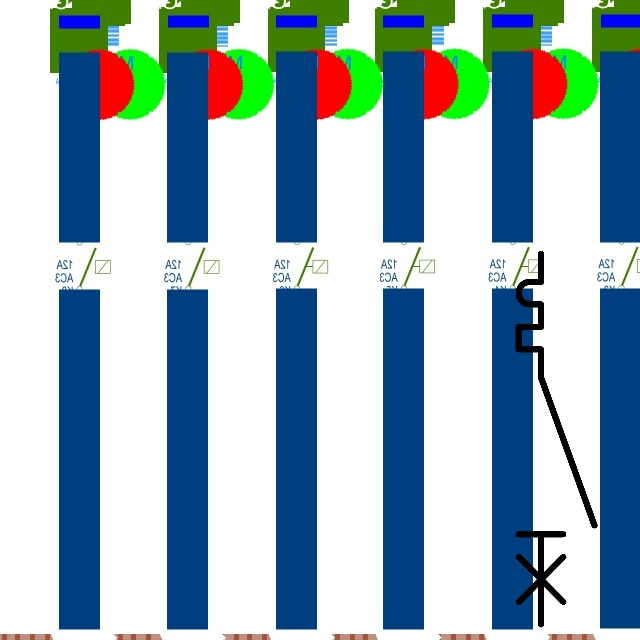interruptor_termomagnetico: (509, 244, 604, 634)
